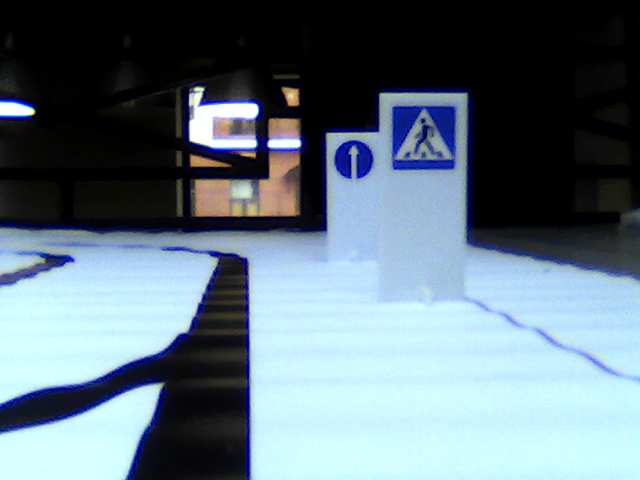forw: (332, 138, 375, 182)
pesh: (390, 98, 455, 174)
